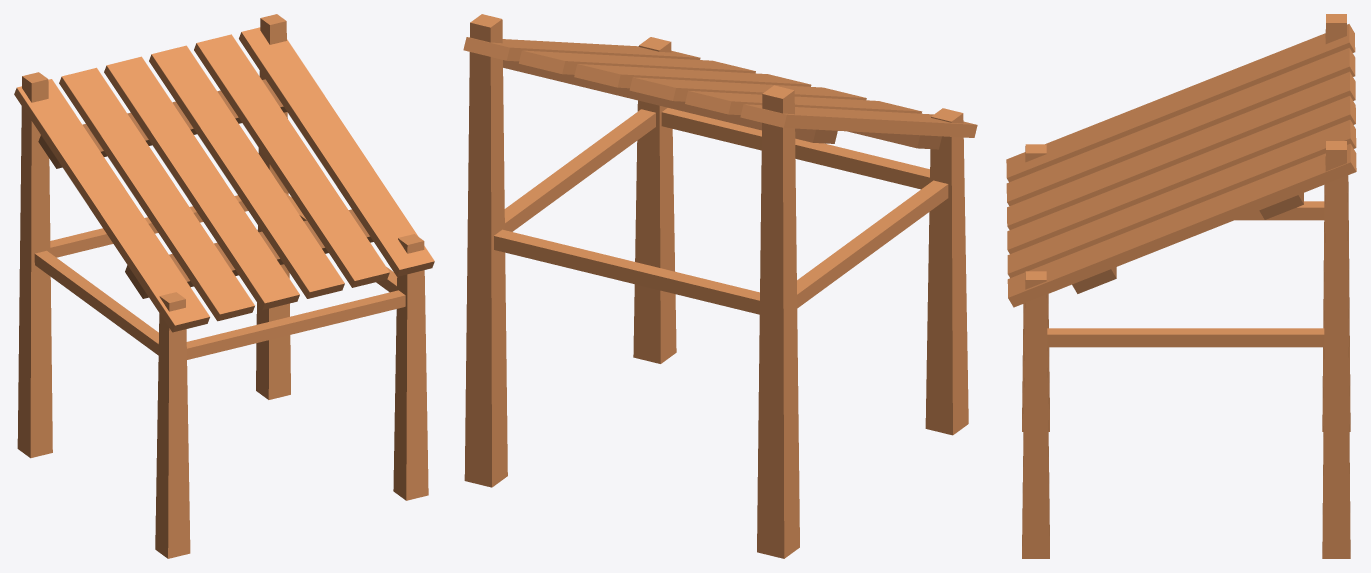
The model's file is structureRoof.dae.
3 renders of one model, left to right at view 1: azimuth 30°, elevation 25°; view 2: azimuth 150°, elevation 25°; view 3: azimuth 270°, elevation 25°, orthographic. The views are drawn at different scales.
Parts seen in each view (by area): view 1: structureRoof; view 2: structureRoof; view 3: structureRoof.
Boxes of the visible parts, x1,y1,x2,y2 form: structureRoof: (14,14,434,558); structureRoof: (463,14,977,558); structureRoof: (1006,14,1356,558).
Bounding box in the file's own units: 2.01 × 2.74 × 2.13.
